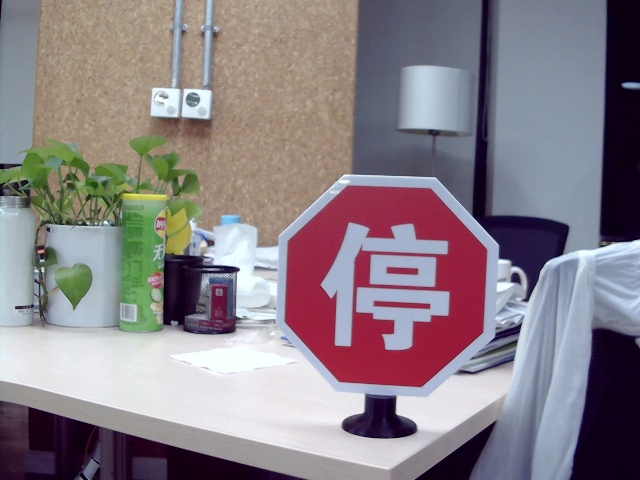stop: (319, 221, 456, 351)
